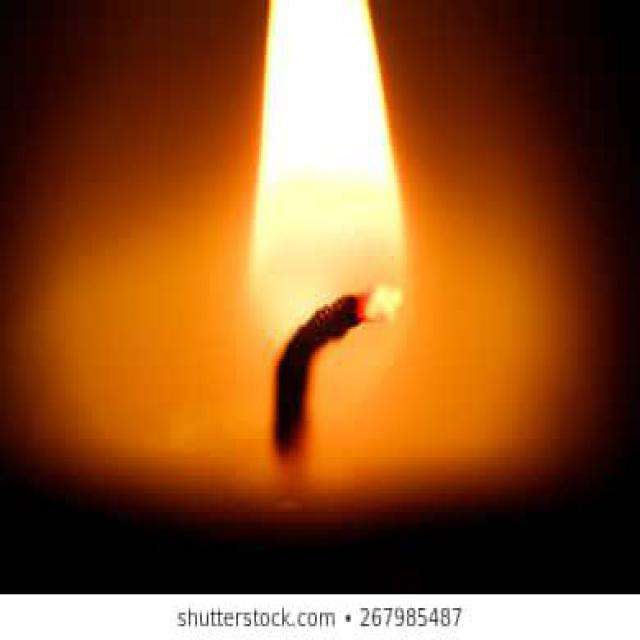Fire: (248, 0, 406, 398)
